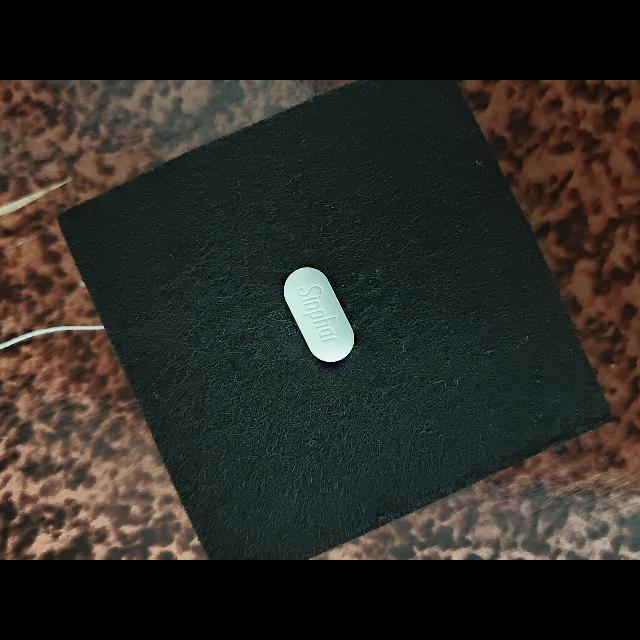Intact Pill: (284, 267, 355, 362)
